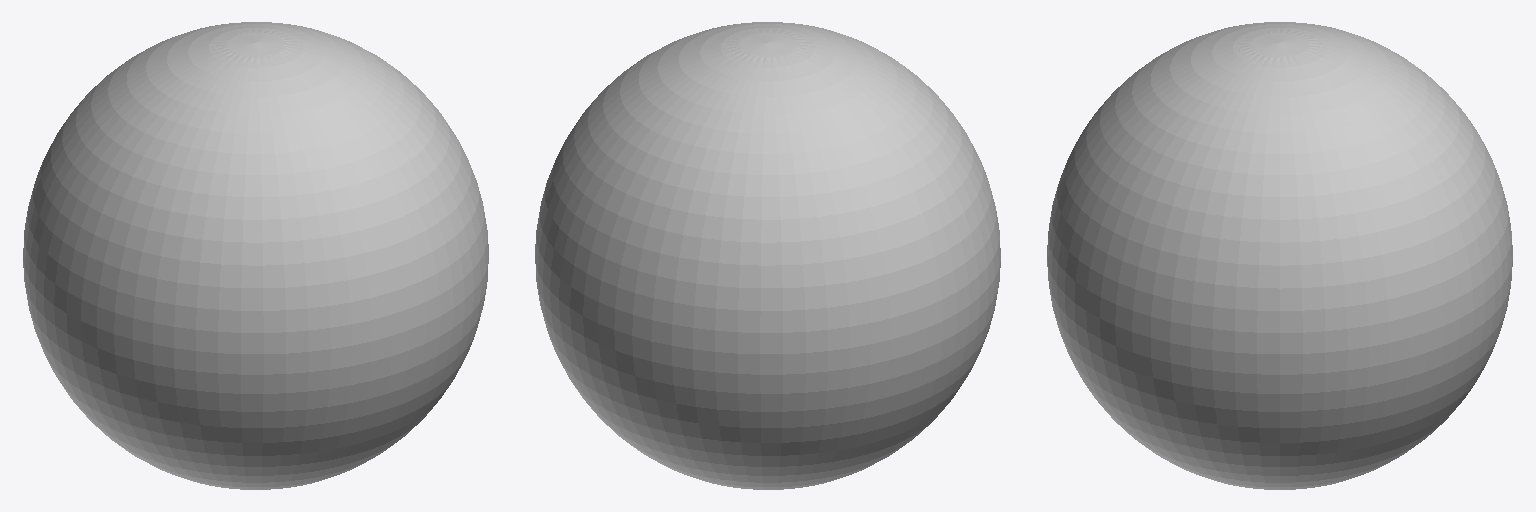
The model's file is boule.obj.
The picture shows the model from 3 angles: view 1: azimuth 30°, elevation 25°; view 2: azimuth 150°, elevation 25°; view 3: azimuth 270°, elevation 25°; orthographic projection.
Visible parts, largest first — view 1: Sphere; view 2: Sphere; view 3: Sphere.
Part boxes in pixels (bbox=[...]): Sphere: bbox=[23, 22, 488, 489]; Sphere: bbox=[535, 22, 1000, 489]; Sphere: bbox=[1047, 22, 1512, 489].
Size of the model in its own units: 1.97 by 2 by 1.97.